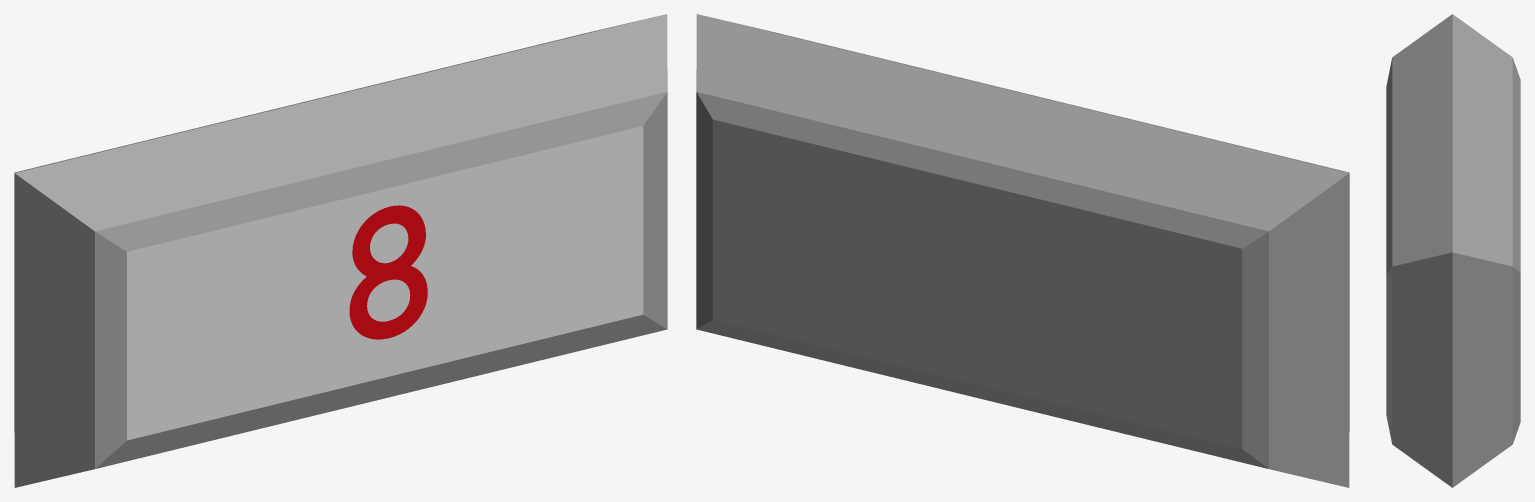
The model's file is number8.fbx.
The picture shows the model from 3 angles, left to right: view 1: azimuth 30°, elevation 25°; view 2: azimuth 150°, elevation 25°; view 3: azimuth 270°, elevation 25°; orthographic projection. The views are drawn at different scales.
Visible parts, largest first — view 1: Cube, Text; view 2: Cube; view 3: Cube.
Part boxes in pixels (left/top/right/bottom): Cube: left=14, top=14, right=667, bottom=487; Text: left=349, top=205, right=427, bottom=339; Cube: left=696, top=14, right=1349, bottom=487; Cube: left=1386, top=14, right=1520, bottom=487.
Size of the model in its own units: 1735 by 800 by 437.
